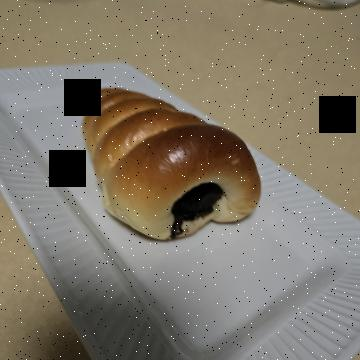cream horn: (85, 95, 263, 298)
